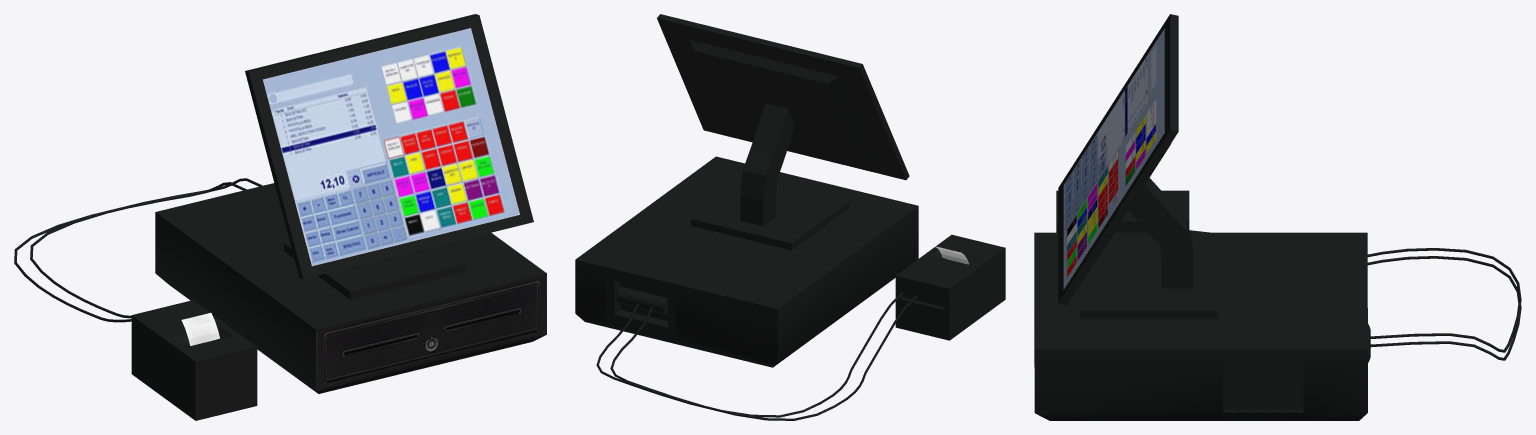
The model's file is pos.glb.
The picture shows the model from 3 angles, left to right: view 1: azimuth 30°, elevation 25°; view 2: azimuth 150°, elevation 25°; view 3: azimuth 270°, elevation 25°; orthographic projection. The views are drawn at different scales.
Parts seen in each view (by area): view 1: Cash register; view 2: Cash register; view 3: Cash register.
Part boxes in pixels (x1,y1,x2,y2): Cash register: (14,14,546,420); Cash register: (575,14,1005,420); Cash register: (1034,14,1521,420).
Size of the model in its own units: 0.4431 by 0.3517 by 0.5291.
Materials: 1 (1 with a texture image).
